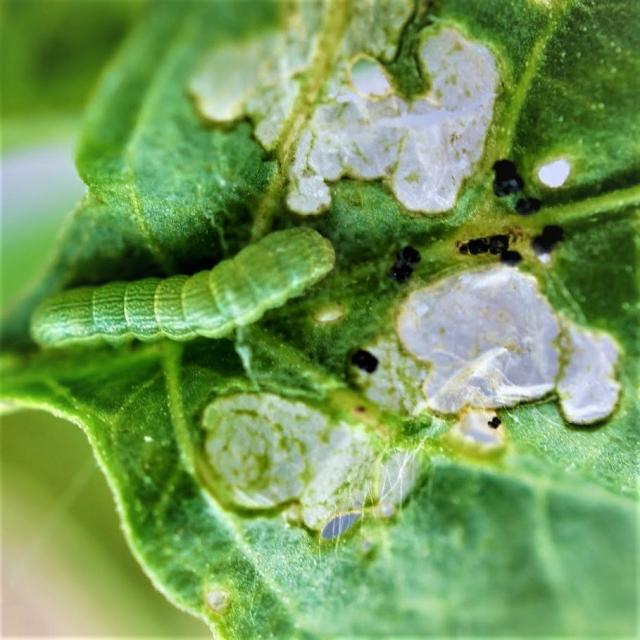armyworm: (23, 229, 340, 350)
